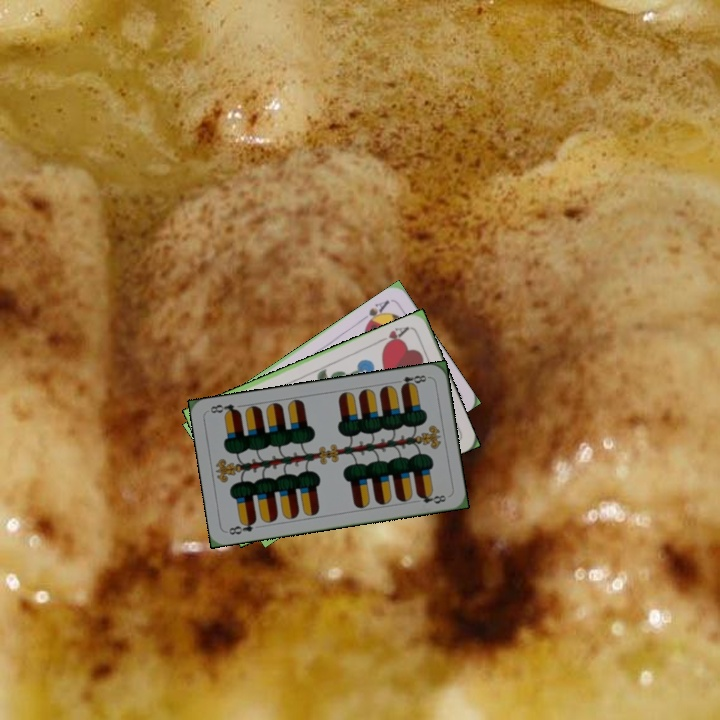E8: (391, 371, 432, 391), (225, 516, 259, 537)
HA: (374, 322, 412, 350)
SA: (361, 296, 392, 329)
